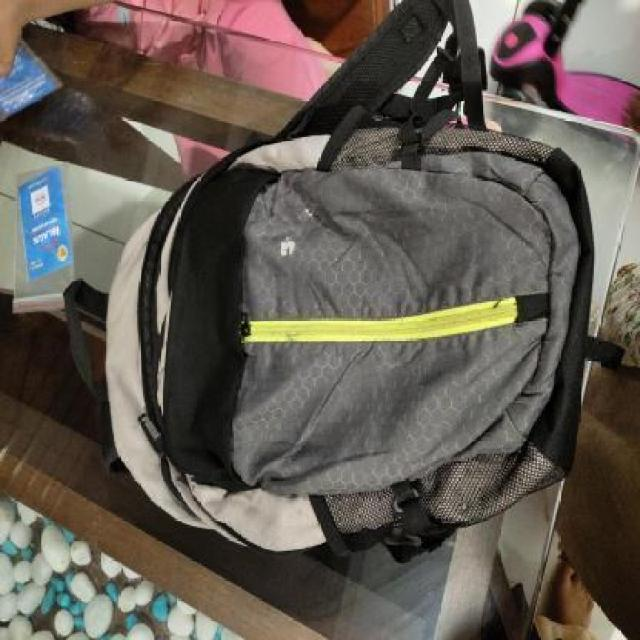backpack: (59, 94, 602, 569)
